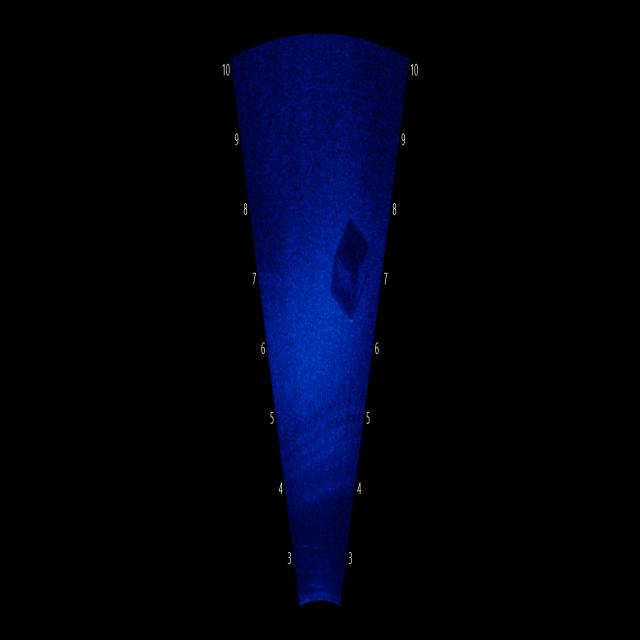square: (323, 198, 371, 320)
